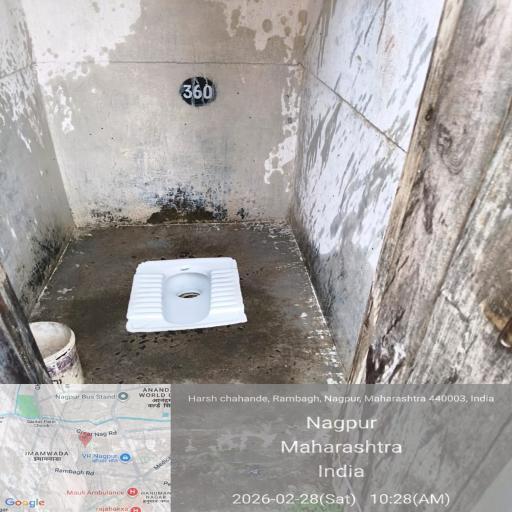clean_indian: (127, 260, 245, 330)
dirty_floor: (353, 1, 511, 386)
partial_dirty_floor: (302, 0, 433, 246), (33, 179, 299, 259), (248, 204, 368, 344), (72, 327, 292, 383), (14, 224, 126, 326)
